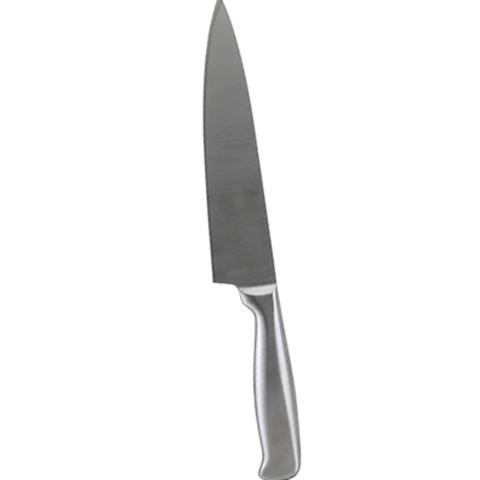knife: (202, 1, 306, 480)
